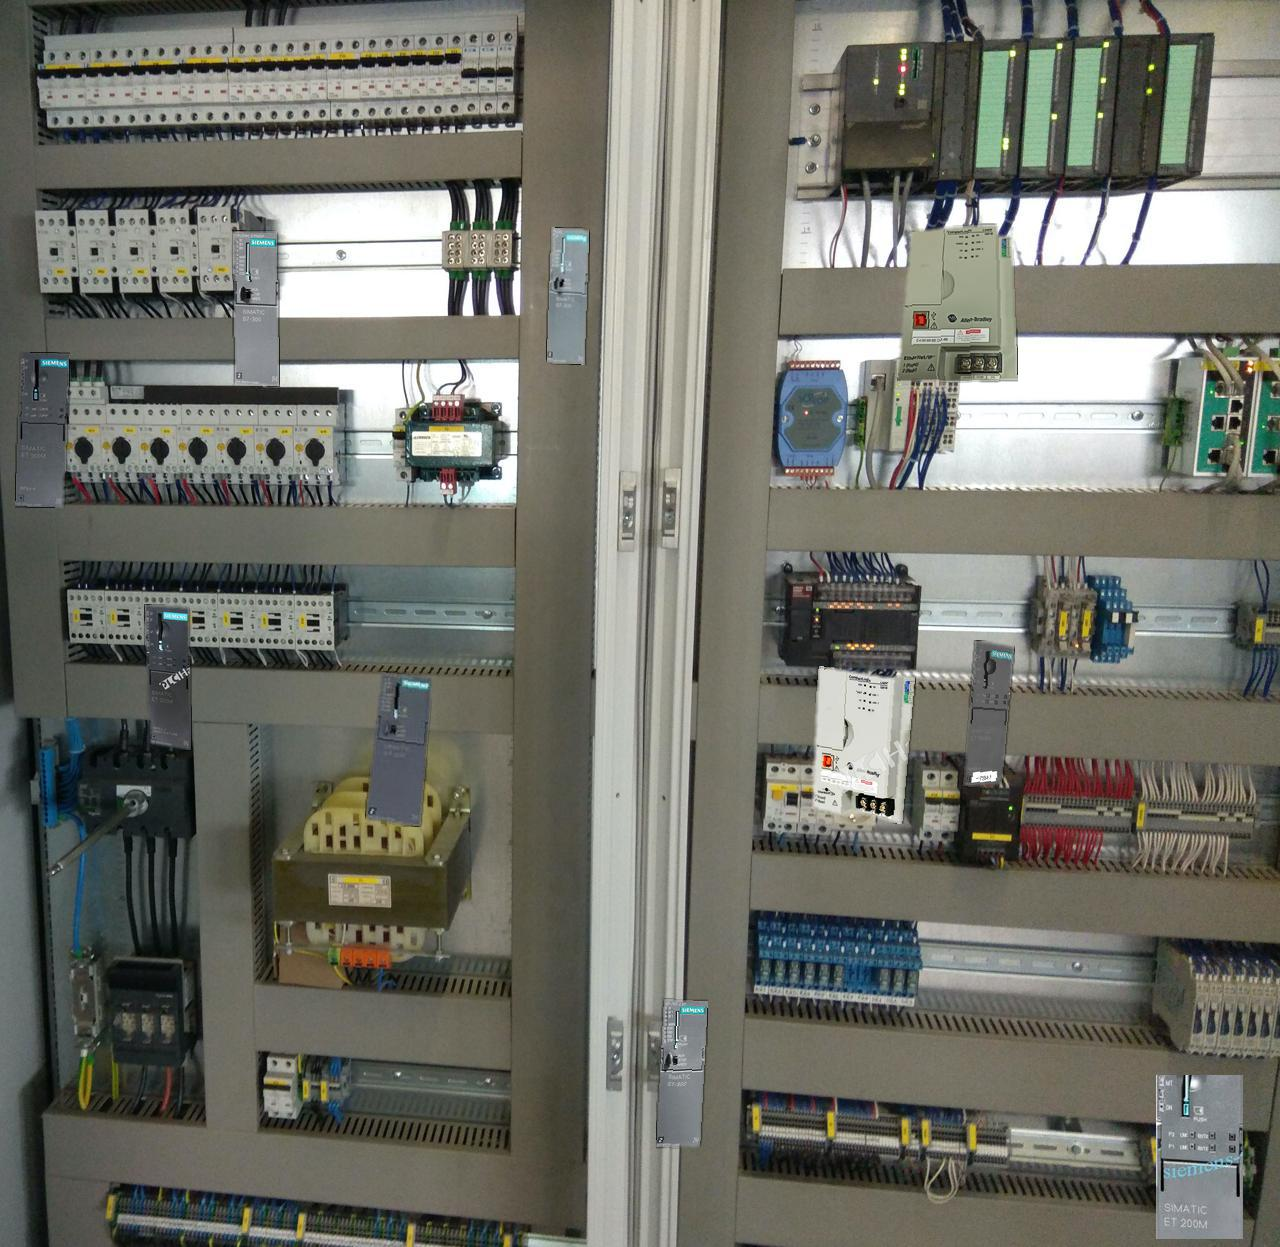AllenBradley: (898, 225, 1017, 379), (811, 666, 914, 823)
Siemens: (366, 672, 430, 825), (656, 1000, 707, 1146), (234, 231, 278, 385), (547, 227, 587, 363)
